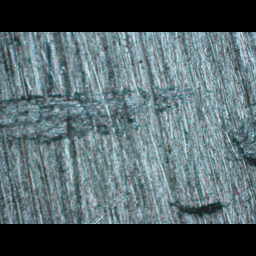d: (0, 82, 191, 143)
